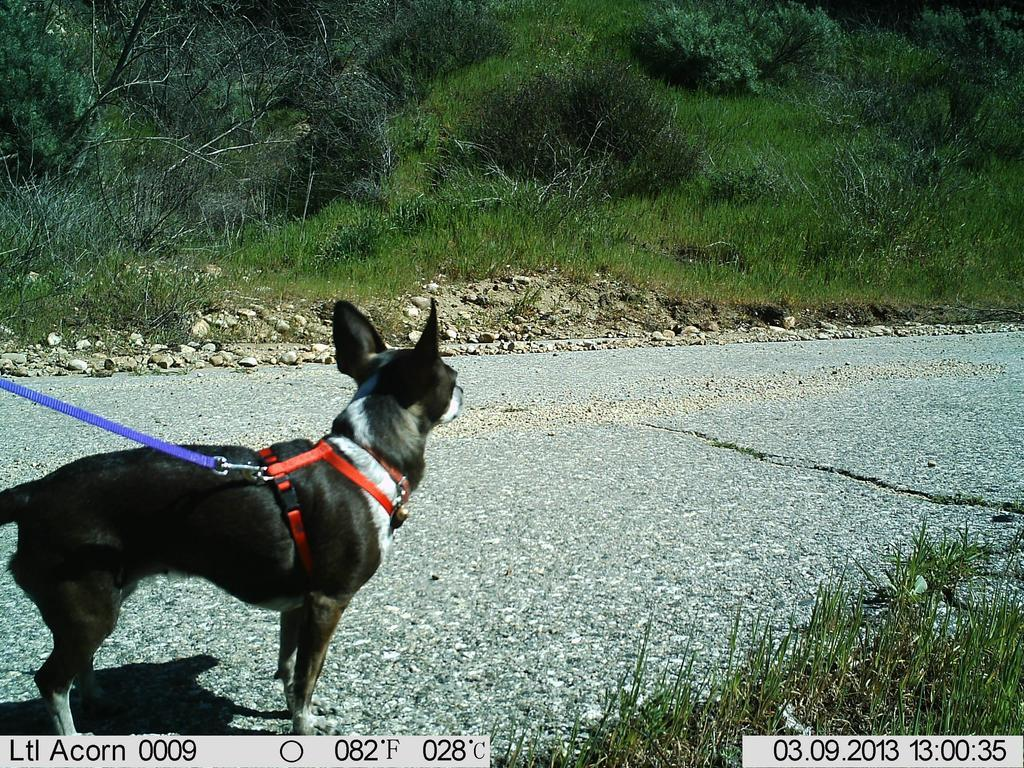dog: (1, 293, 466, 735)
